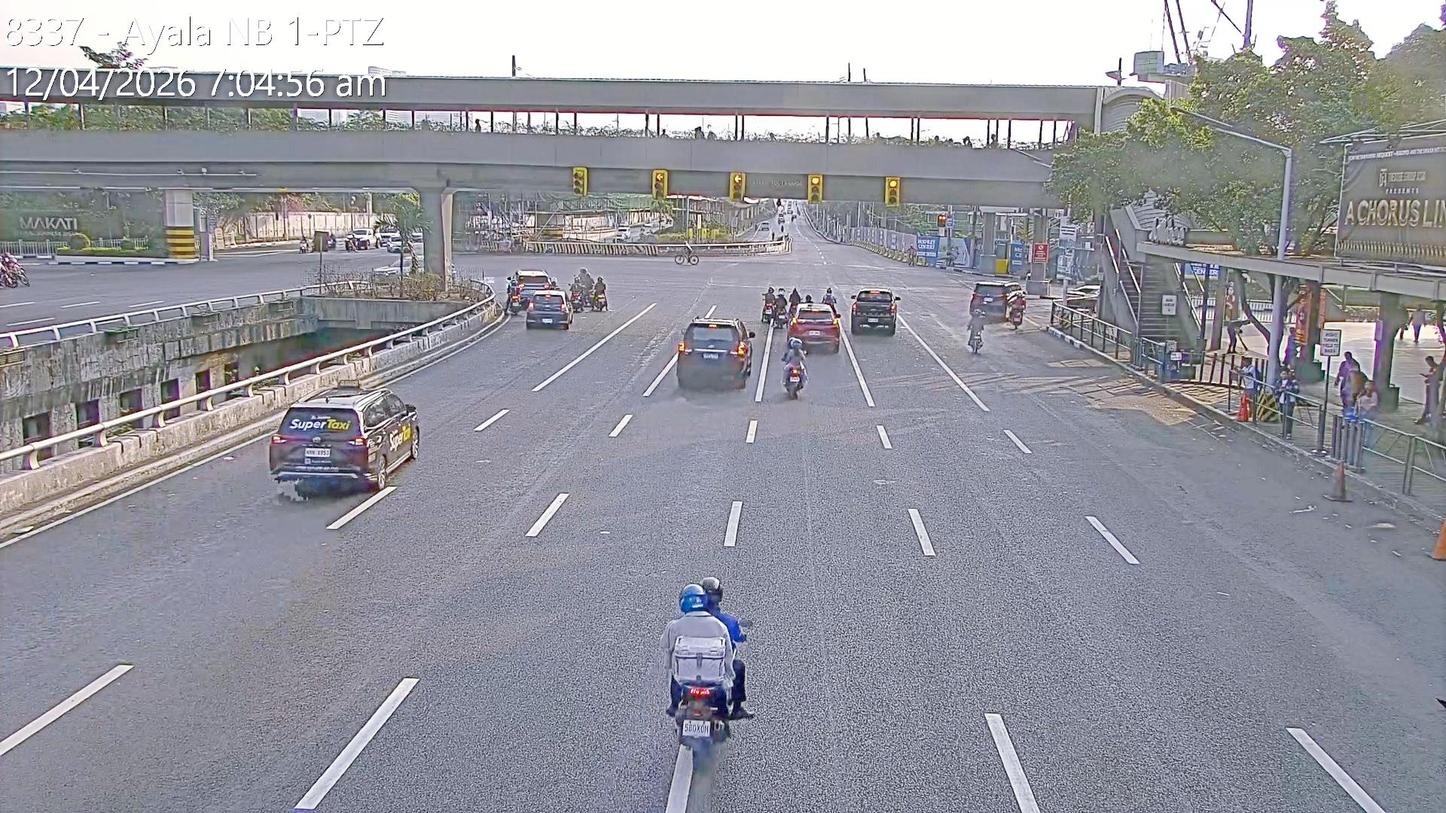Car: (269, 382, 422, 493), (675, 315, 754, 389), (786, 302, 841, 354), (848, 288, 898, 336), (508, 269, 557, 315), (968, 278, 1020, 321), (524, 288, 573, 330), (345, 228, 377, 250), (377, 230, 402, 251)
Motor: (661, 611, 737, 751), (962, 308, 991, 357), (781, 351, 808, 399), (591, 274, 609, 316), (503, 279, 524, 315), (567, 276, 586, 315), (760, 285, 777, 324), (772, 286, 787, 329), (820, 284, 840, 315), (580, 271, 595, 309), (1005, 301, 1024, 329), (296, 233, 312, 255), (344, 232, 358, 253)
Not Accident: (760, 279, 846, 403), (965, 274, 1025, 356), (501, 264, 574, 331), (568, 262, 610, 314)
